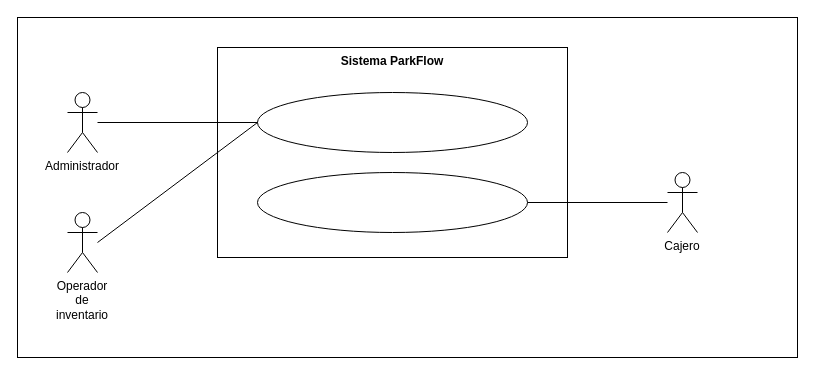
This 815x375 diagram has some shape labels left out. Each missing label, with the centre of its shape:
"Descontando Automáticamente Insumos por Venta" belongs at point (392, 202).
"Registrando Receta de Producto" belongs at point (392, 122).
